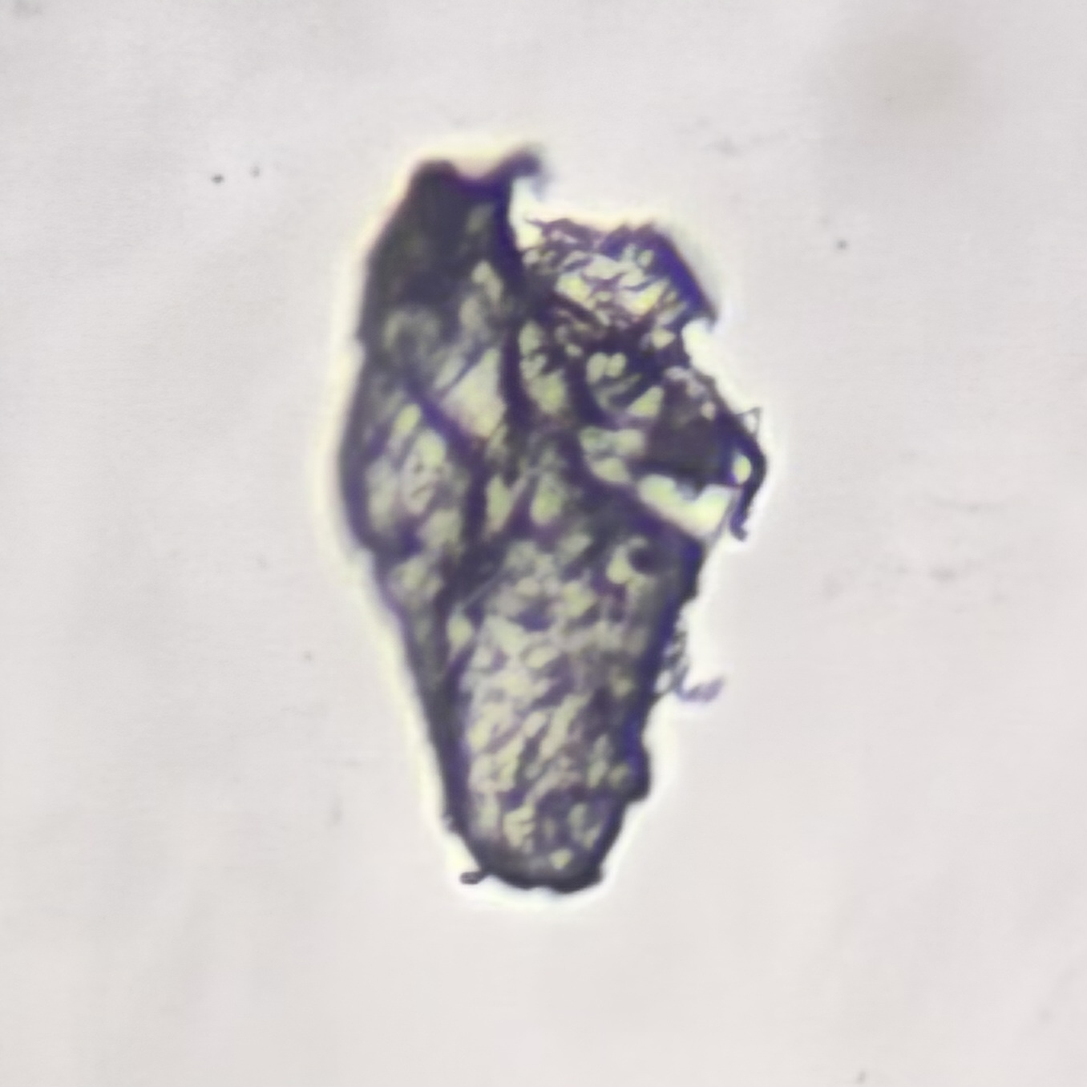microplastic: (333, 151, 768, 893)
